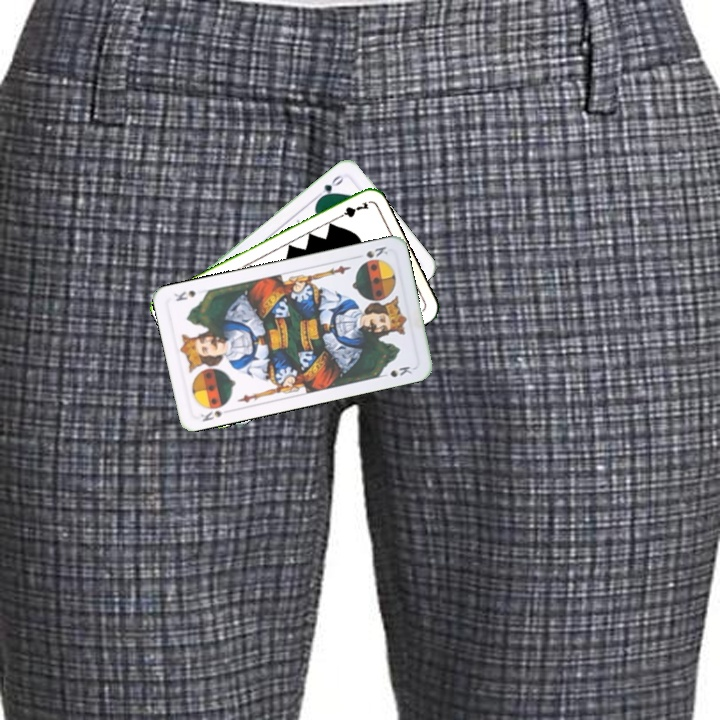G7: (332, 198, 371, 222)
GO: (312, 171, 349, 202)
SK: (351, 242, 391, 261), (197, 406, 225, 424)
